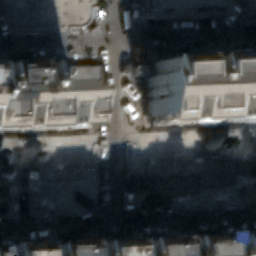car: (122, 82, 142, 102), (122, 103, 142, 123), (225, 6, 241, 26), (172, 20, 201, 30), (28, 229, 57, 239), (125, 191, 136, 211), (101, 49, 110, 73), (1, 18, 10, 37), (100, 123, 107, 141)
